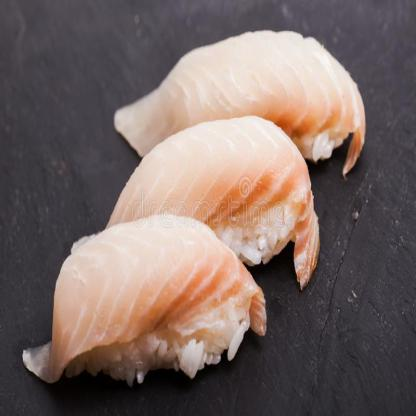tai: (12, 206, 277, 399)
